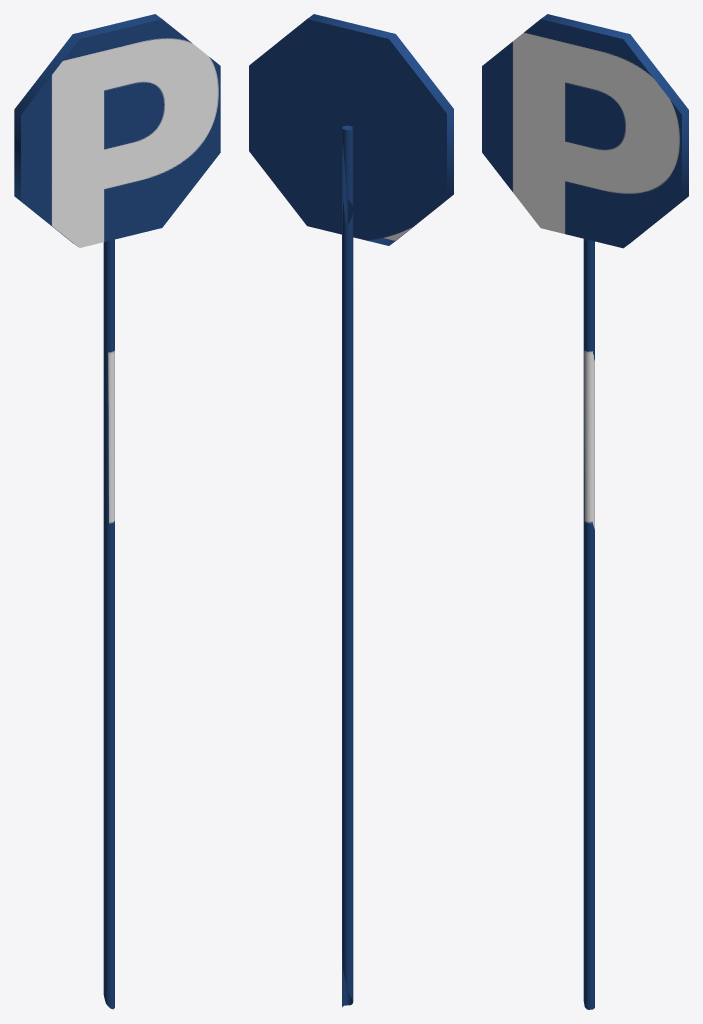
Rendered from aws_Parking_01_visual.DAE.
3 renders of one model, left to right at view 1: azimuth 30°, elevation 25°; view 2: azimuth 150°, elevation 25°; view 3: azimuth 330°, elevation 25°, orthographic.
Visible parts, largest first — view 1: aws_GuideBoard_01_visual; view 2: aws_GuideBoard_01_visual; view 3: aws_GuideBoard_01_visual.
Part boxes in pixels (bbox=[...]): aws_GuideBoard_01_visual: bbox=[14, 14, 220, 1009]; aws_GuideBoard_01_visual: bbox=[249, 14, 453, 1006]; aws_GuideBoard_01_visual: bbox=[482, 14, 688, 1009].
Bounding box in the file's own units: 40.34 × 4.23 × 190.
1 material, 1 textured.
